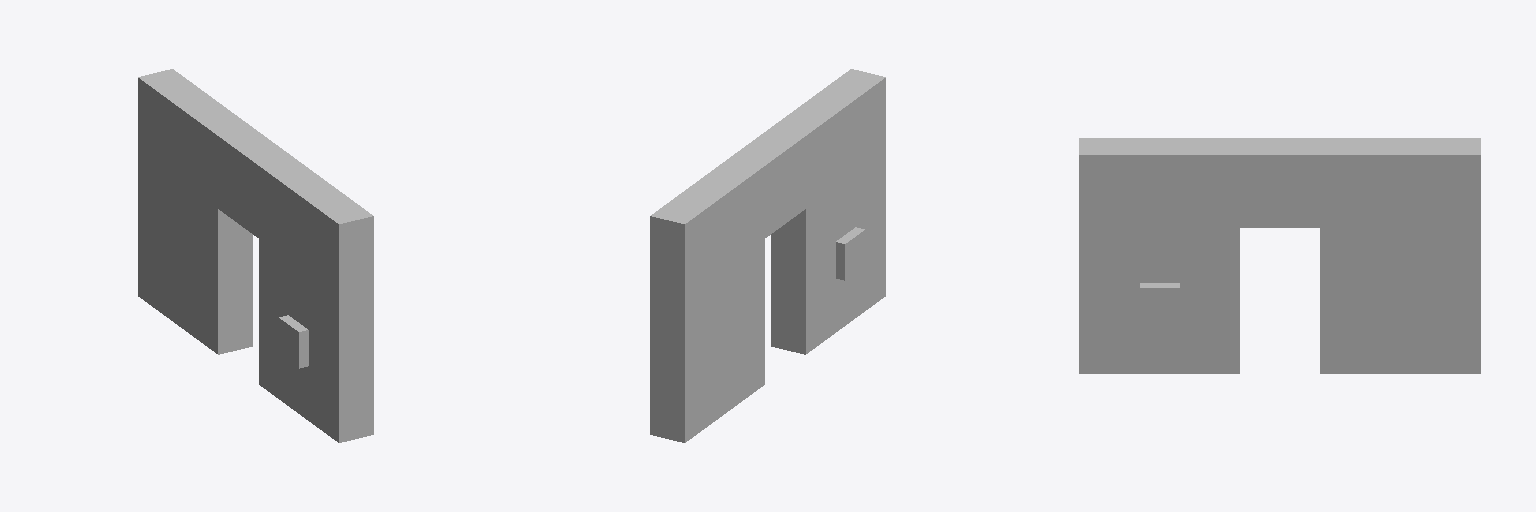
The model's file is Wall.obj.
3 renders of one model, left to right at view 1: azimuth 30°, elevation 25°; view 2: azimuth 150°, elevation 25°; view 3: azimuth 270°, elevation 25°, orthographic.
Visible parts, largest first — view 1: Wall; view 2: Wall; view 3: Wall.
Boxes of the visible parts, box(x1,y1,x2,y2) form: Wall: box(138, 69, 373, 442); Wall: box(650, 69, 885, 442); Wall: box(1079, 138, 1480, 373).
Size of the model in its own units: 0.7824 by 3 by 5.